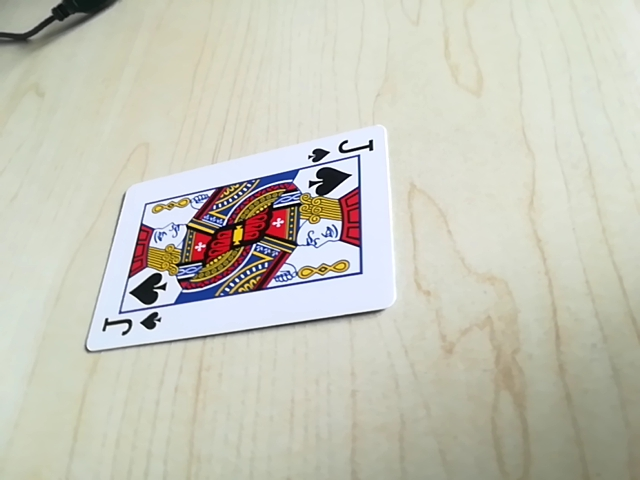ht j: (97, 306, 169, 346), (310, 136, 378, 163)
